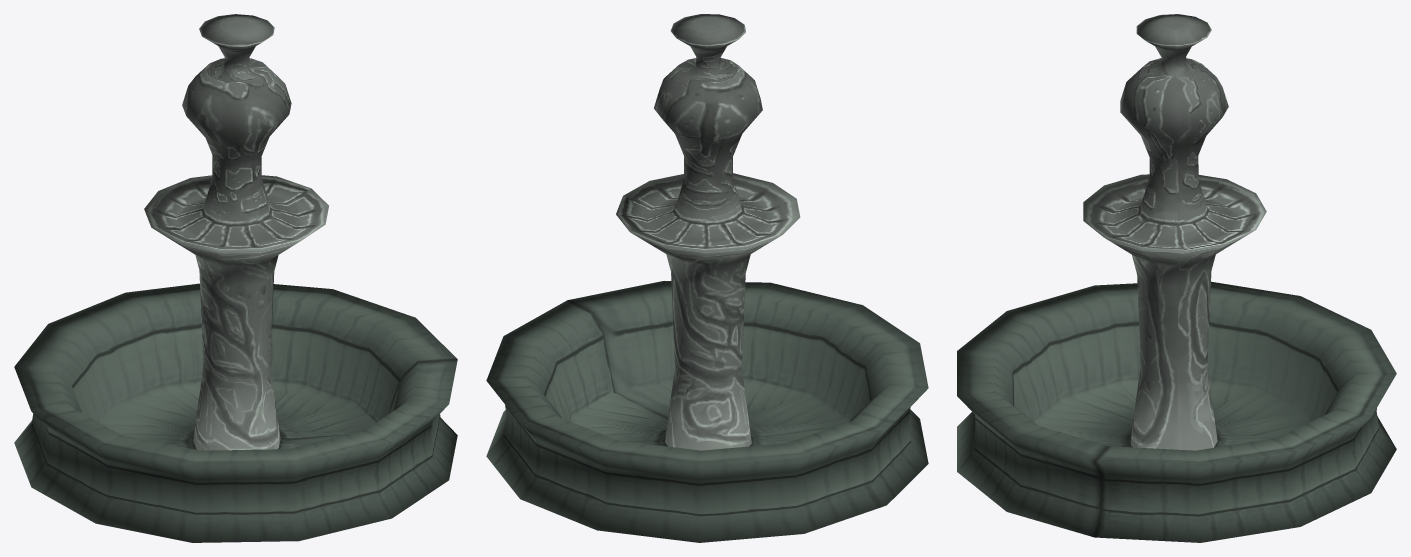
Rendered from Fonte.fbx.
3 renders of one model, left to right at view 1: azimuth 30°, elevation 25°; view 2: azimuth 150°, elevation 25°; view 3: azimuth 270°, elevation 25°, orthographic.
Visible parts, largest first — view 1: Cylinder; view 2: Cylinder; view 3: Cylinder.
Boxes of the visible parts, x1,y1,x2,y2 form: Cylinder: [14, 14, 457, 542]; Cylinder: [486, 14, 928, 542]; Cylinder: [957, 14, 1396, 542].
Size of the model in its own units: 4.86 by 5.15 by 4.82.
